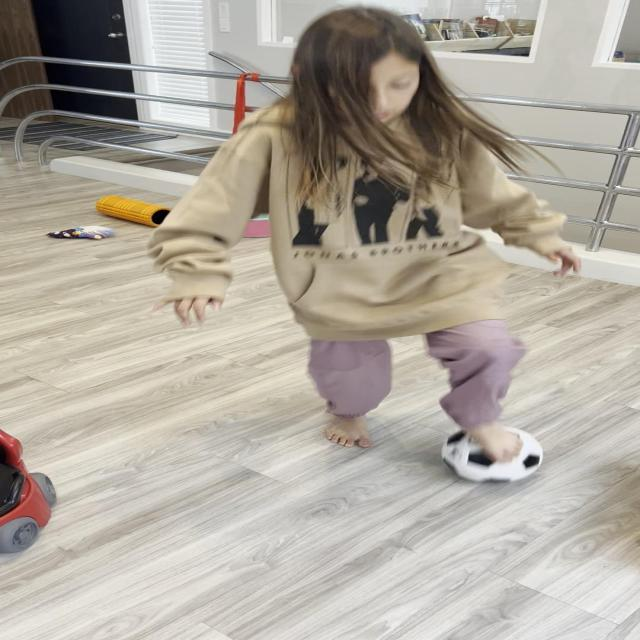Soccer Ball: (442, 425, 544, 481)
